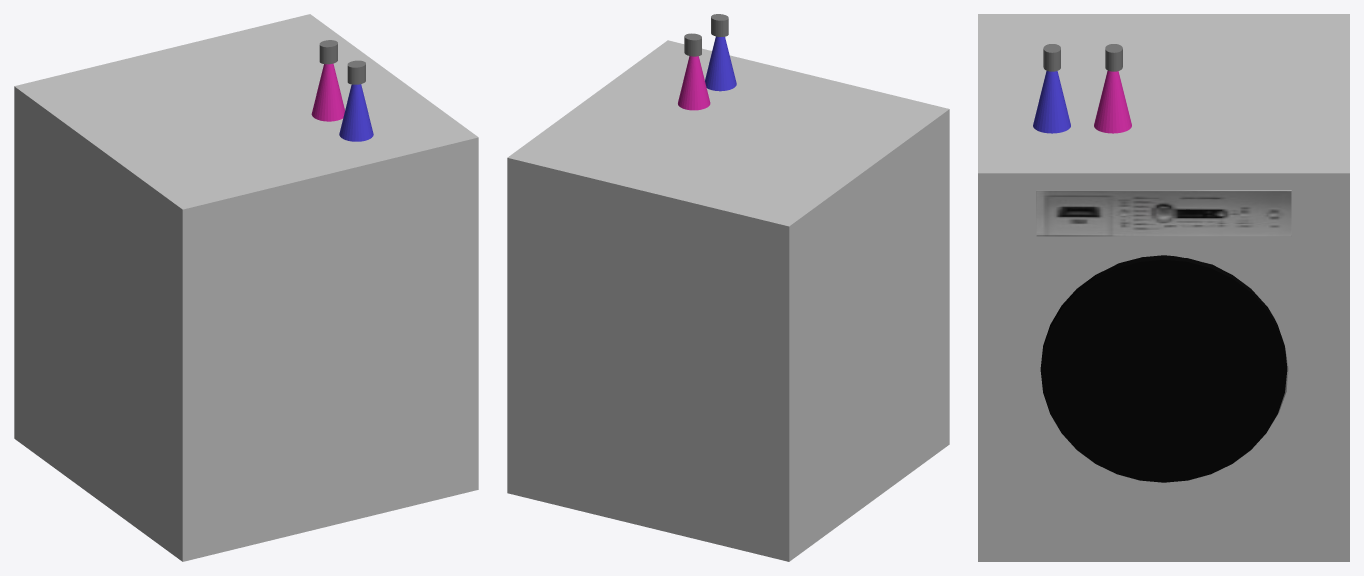
File: WashingMachine.fbx
3 views of the same model, side by side, from view 1: azimuth 30°, elevation 25°; view 2: azimuth 150°, elevation 25°; view 3: azimuth 270°, elevation 25° (orthographic). The views are drawn at different scales.
Parts seen in each view (by area): view 1: Cube, Cone, Cone.001; view 2: Cube, Cone.001, Cone; view 3: Cube, Cylinder, Cube.001, Cone, Cone.001, Cylinder.002, Cylinder.001.
Part boxes in pixels (box(x1,y1,x2,y2)): Cube: box(14, 14, 478, 561); Cone: box(339, 84, 373, 141); Cone.001: box(311, 63, 344, 121); Cube: box(507, 40, 949, 561); Cone.001: box(678, 56, 710, 110); Cone: box(705, 36, 736, 91); Cube: box(978, 14, 1349, 561); Cylinder: box(1040, 255, 1287, 482); Cube.001: box(1036, 190, 1291, 236); Cone: box(1033, 71, 1070, 133); Cone.001: box(1094, 70, 1131, 133); Cylinder.002: box(1043, 44, 1060, 71); Cylinder.001: box(1105, 44, 1122, 71).
Bounding box in the file's own units: 427 × 569 × 412.
